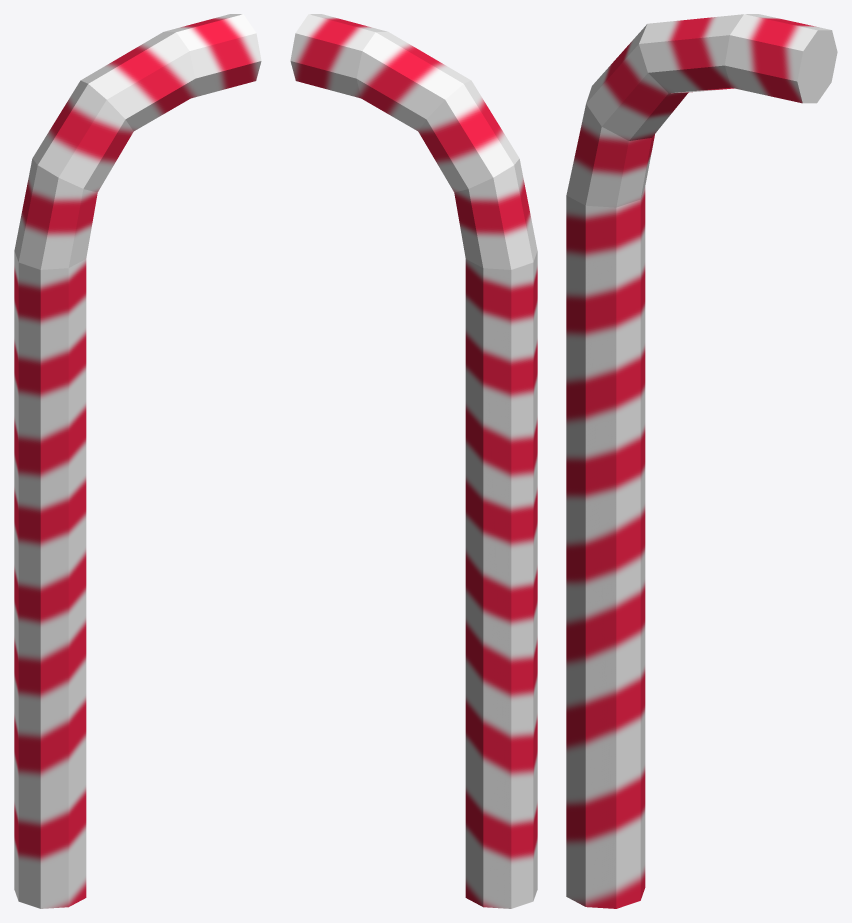
Rendered from sugar_cane.glb.
The picture shows the model from 3 angles, left to right: view 1: azimuth 30°, elevation 25°; view 2: azimuth 150°, elevation 25°; view 3: azimuth 330°, elevation 25°; orthographic projection. The views are drawn at different scales.
Parts seen in each view (by area): view 1: Cube; view 2: Cube; view 3: Cube.
Boxes of the visible parts, x1,y1,x2,y2 form: Cube: [14, 14, 261, 908]; Cube: [290, 14, 537, 908]; Cube: [566, 14, 837, 908].
Bounding box in the file's own units: 1.61 × 5.69 × 0.4549.
1 material, 1 textured.
